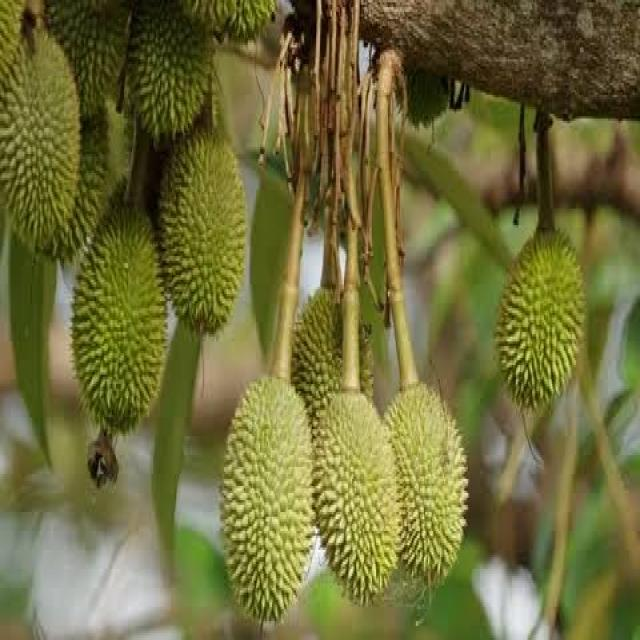immature: (221, 375, 320, 631), (72, 202, 173, 435), (305, 388, 401, 608), (160, 128, 252, 342), (0, 21, 81, 263), (380, 380, 468, 588), (499, 226, 591, 415), (118, 0, 214, 147), (292, 288, 346, 422)
